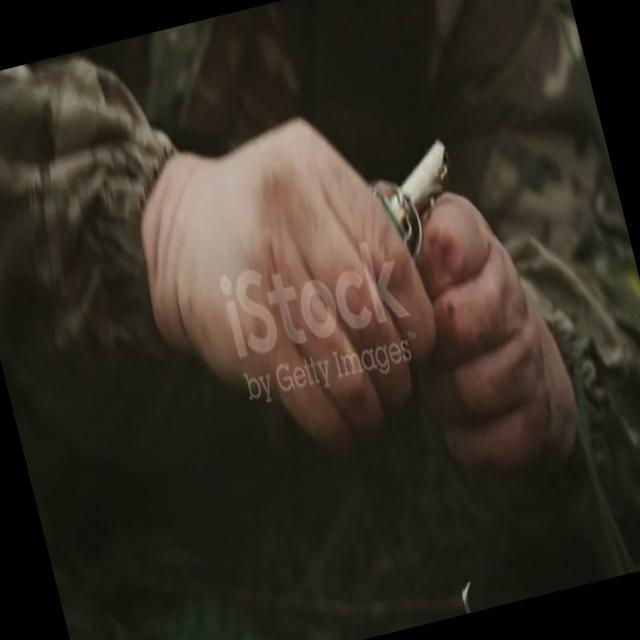grenade: (364, 132, 481, 263)
